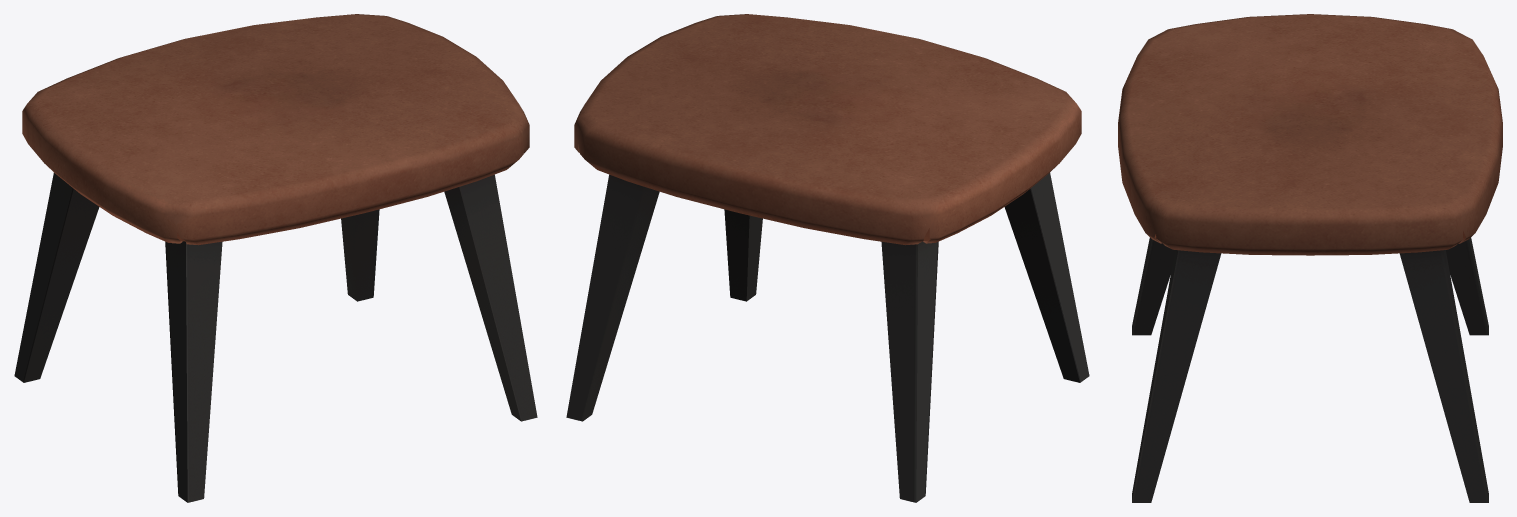
The model's file is Davenport Stool.fbx.
3 views of the same model, side by side, from view 1: azimuth 30°, elevation 25°; view 2: azimuth 150°, elevation 25°; view 3: azimuth 270°, elevation 25° (orthographic). The views are drawn at different scales.
Visible parts, largest first — view 1: Davenport Stool; view 2: Davenport Stool; view 3: Davenport Stool.
Boxes of the visible parts, <box> form: Davenport Stool: <box>14,14,537,502</box>; Davenport Stool: <box>566,14,1089,502</box>; Davenport Stool: <box>1118,14,1502,502</box>.
Size of the model in its own units: 0.933 by 0.6576 by 0.7389.
Materials: 1 (1 with a texture image).
